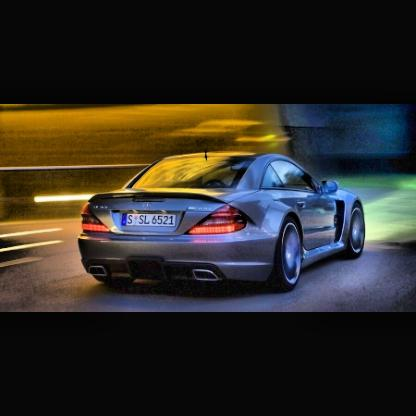Mercedes-Benz SL-Class Coupe 2009: (79, 152, 367, 295)
